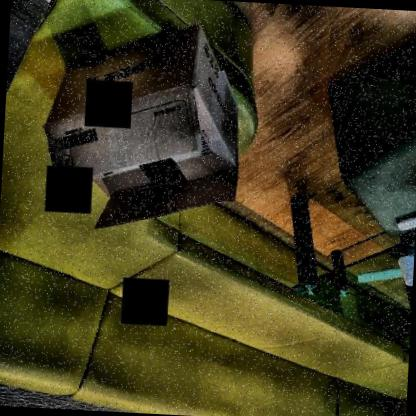box: (36, 19, 252, 240)
